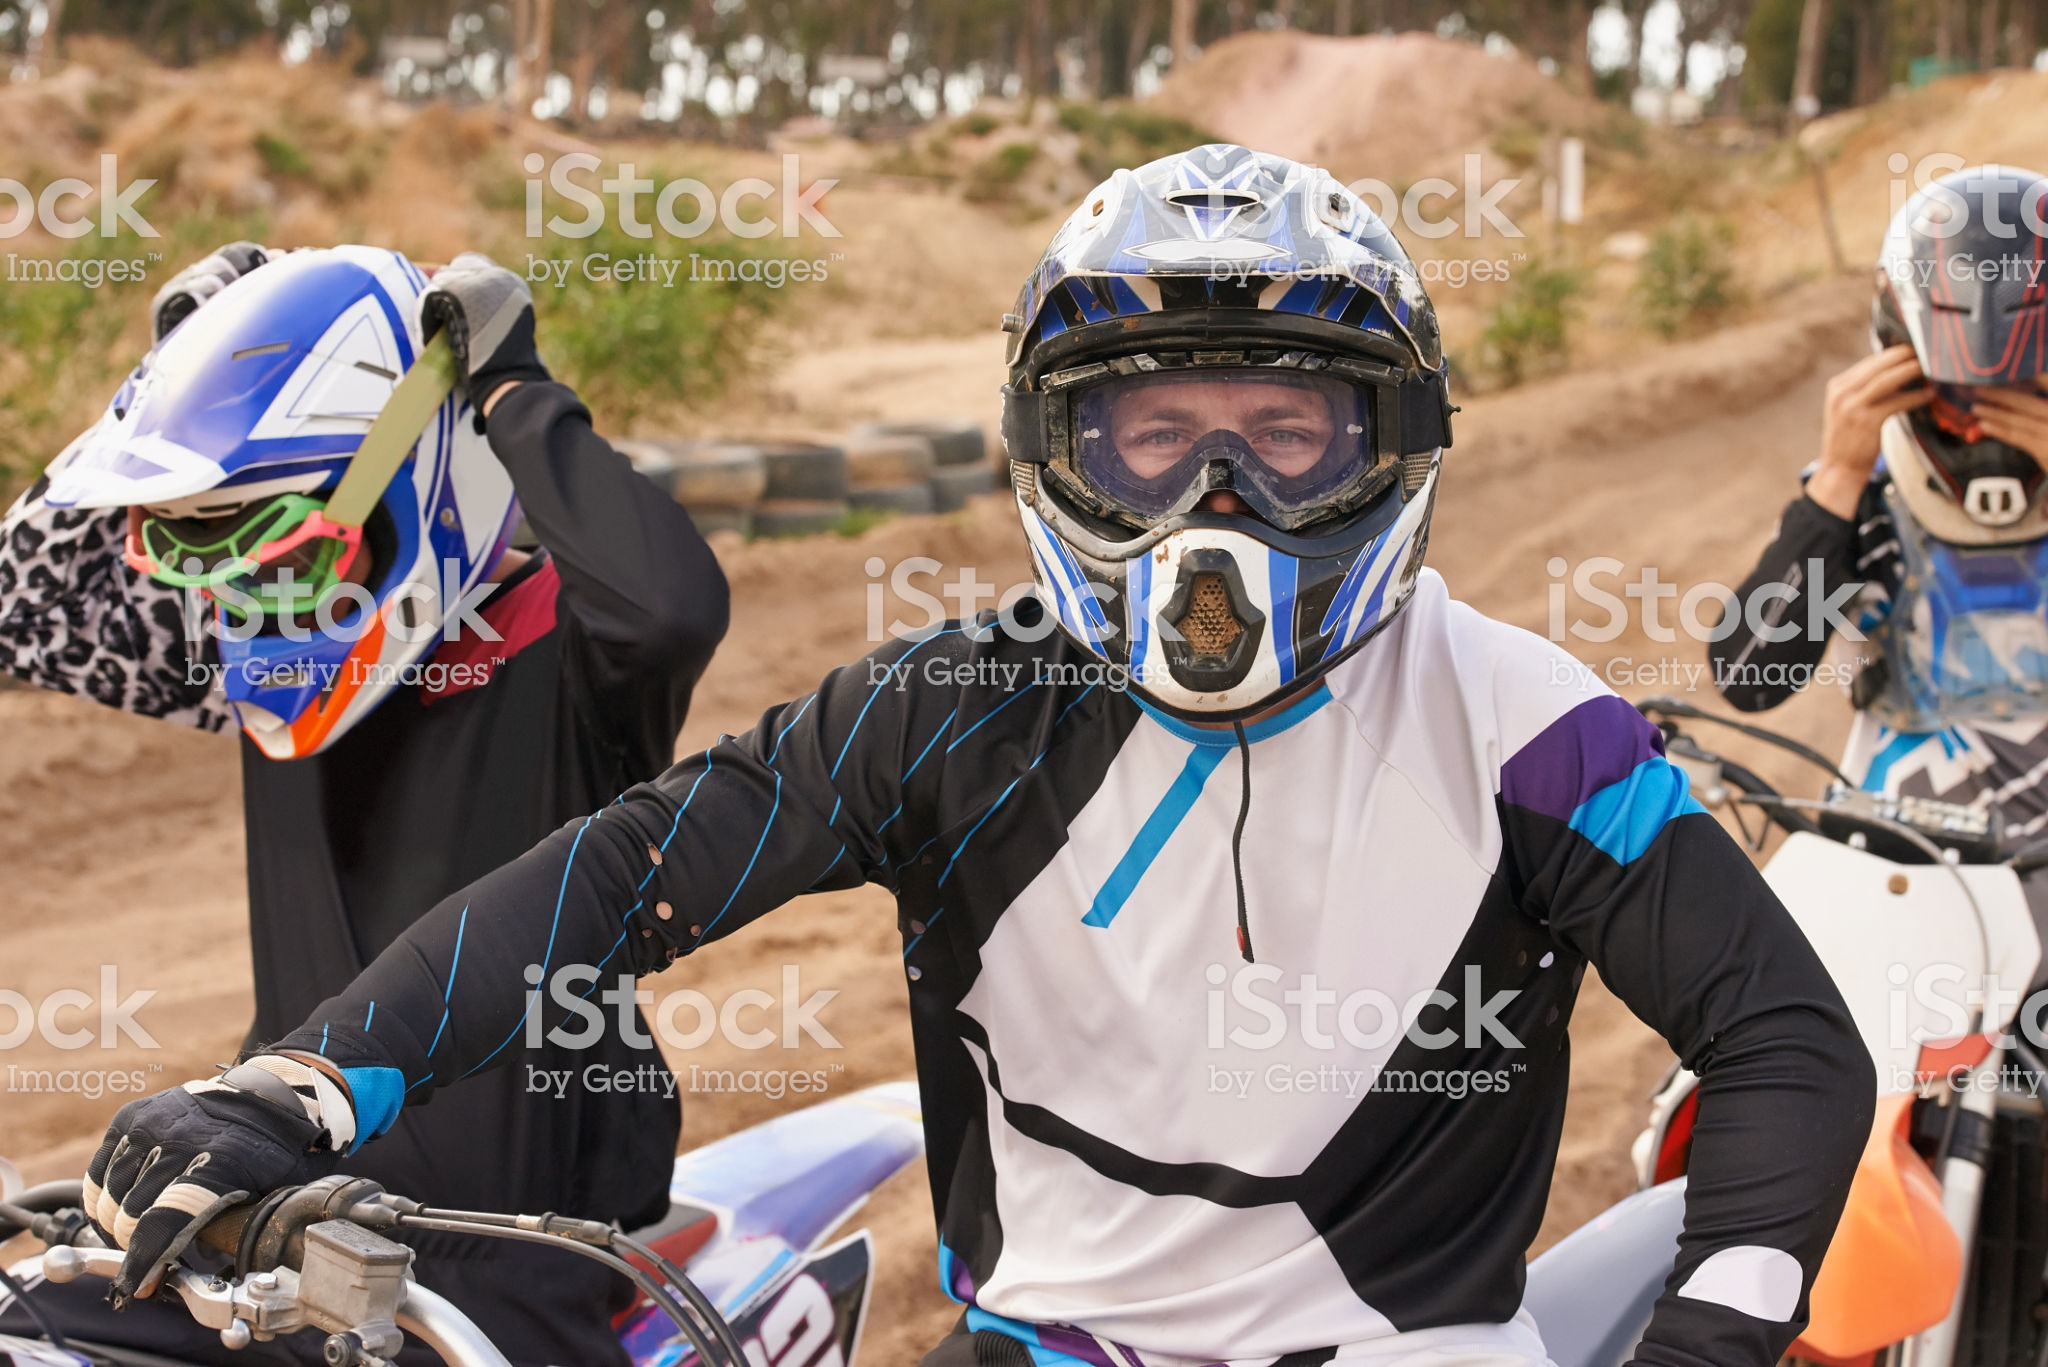helmet: (1000, 207, 1475, 741), (75, 246, 461, 767)
